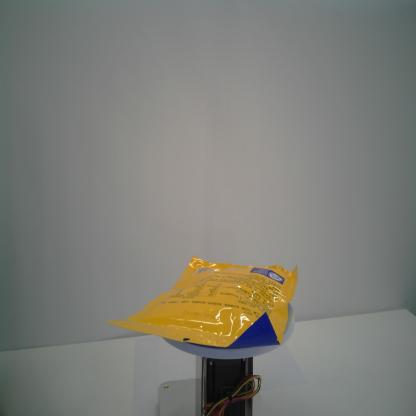Dried Fruit: (106, 254, 299, 350)
